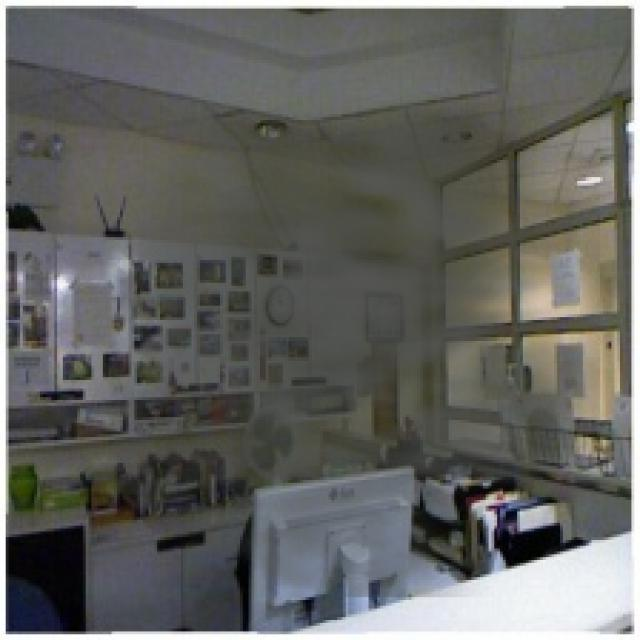Smoke: (37, 77, 600, 597)
